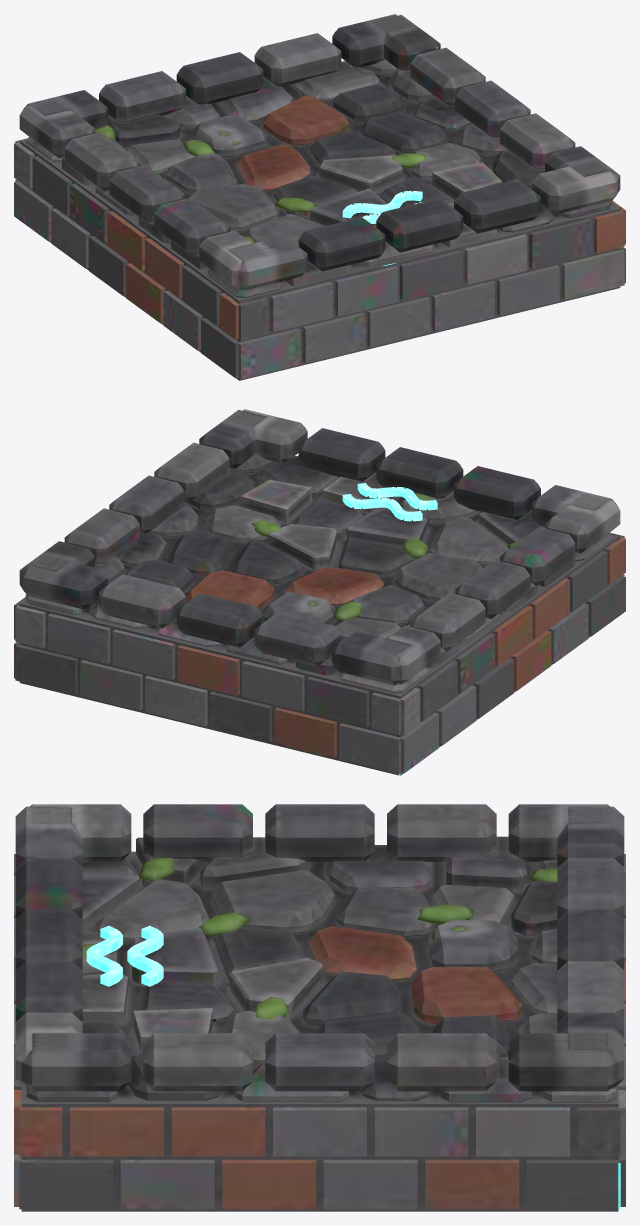
File: plate_2_water.glb
The picture shows the model from 3 angles, top to bottom: view 1: azimuth 30°, elevation 25°; view 2: azimuth 150°, elevation 25°; view 3: azimuth 270°, elevation 25°; orthographic projection. The views are drawn at different scales.
Visible parts, largest first — view 1: plate_2_water; view 2: plate_2_water; view 3: plate_2_water.
Boxes of the visible parts, x1,y1,x2,y2 form: plate_2_water: (14, 14, 625, 380); plate_2_water: (14, 409, 625, 775); plate_2_water: (14, 804, 625, 1211).
Bounding box in the file's own units: 2.01 × 0.57 × 2.01.
Materials: 1 (1 with a texture image).
